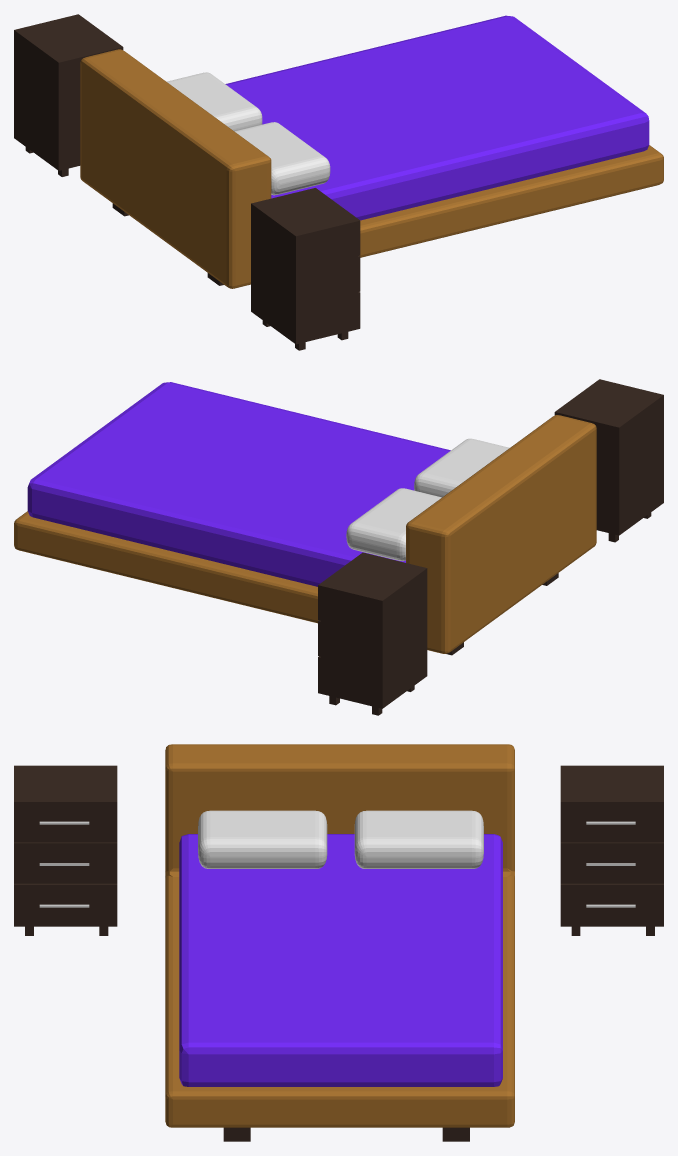
File: Bed1.obj
3 views of the same model, one above another, from view 1: azimuth 30°, elevation 25°; view 2: azimuth 150°, elevation 25°; view 3: azimuth 270°, elevation 25° (orthographic). The views are drawn at different scales.
Parts seen in each view (by area): view 1: Box045, Box039, Box029, Box047, Box041, Box042; view 2: Box045, Box039, Box047, Box029, Box042, Box041; view 3: Box045, Box039, Box047, Box029, Box041, Box042.
Part boxes in pixels (<box>): Box045: <box>225,15,649,220</box>; Box039: <box>80,49,663,288</box>; Box029: <box>251,188,360,344</box>; Box047: <box>14,14,123,170</box>; Box041: <box>234,122,330,195</box>; Box042: <box>167,72,262,131</box>; Box045: <box>27,382,450,586</box>; Box039: <box>14,415,596,653</box>; Box047: <box>318,552,427,708</box>; Box029: <box>554,379,663,535</box>; Box042: <box>346,488,441,561</box>; Box041: <box>414,438,509,497</box>; Box045: <box>179,834,502,1086</box>; Box039: <box>165,744,514,1127</box>; Box047: <box>560,765,663,926</box>; Box029: <box>14,765,117,926</box>; Box041: <box>198,810,327,868</box>; Box042: <box>354,810,483,868</box>.
Bounding box in the file's own units: 112913 × 34629 × 126399.
